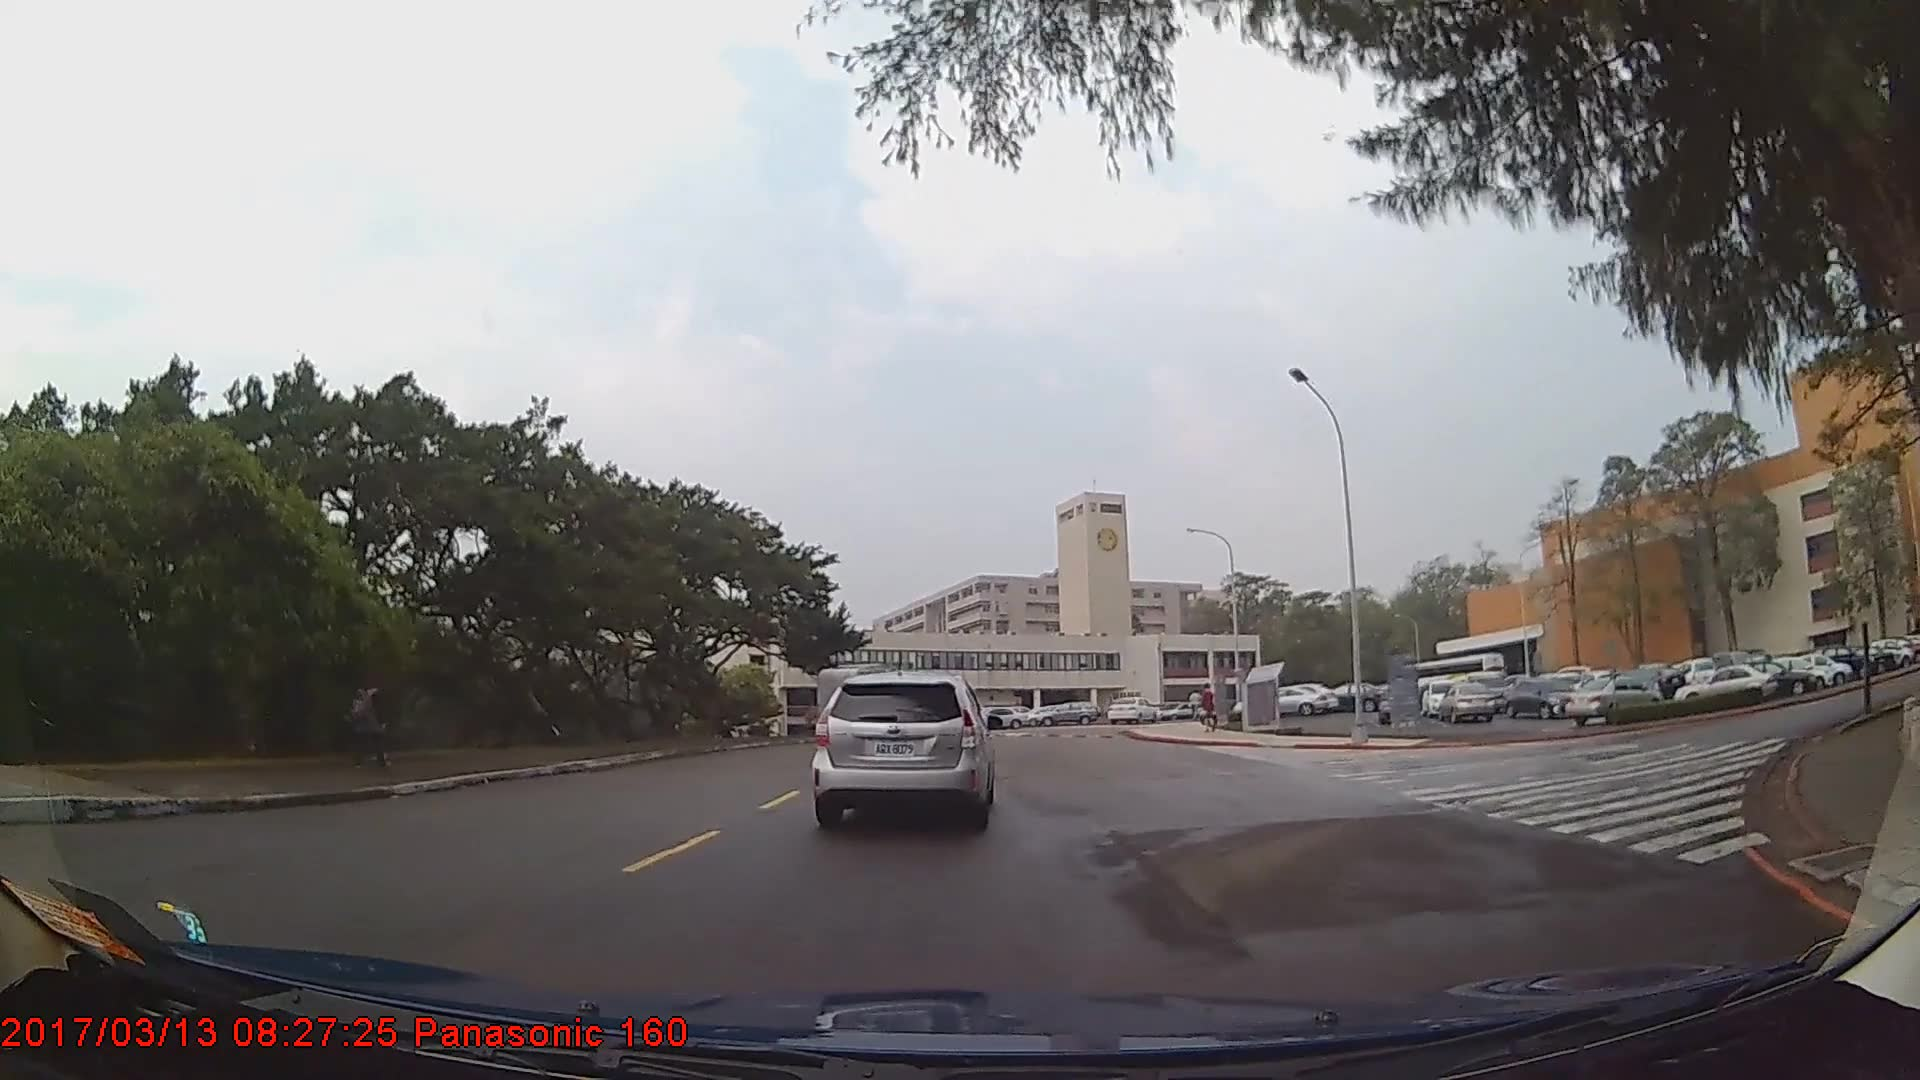pedestrian: (345, 668, 393, 774), (1199, 683, 1219, 733)
vehicle: (816, 671, 991, 827), (1565, 672, 1662, 724), (1675, 662, 1775, 710), (1726, 656, 1819, 697), (1505, 675, 1581, 718), (1242, 679, 1327, 714), (1437, 676, 1497, 721), (1037, 699, 1097, 725), (1105, 694, 1154, 725), (972, 704, 1030, 728)
